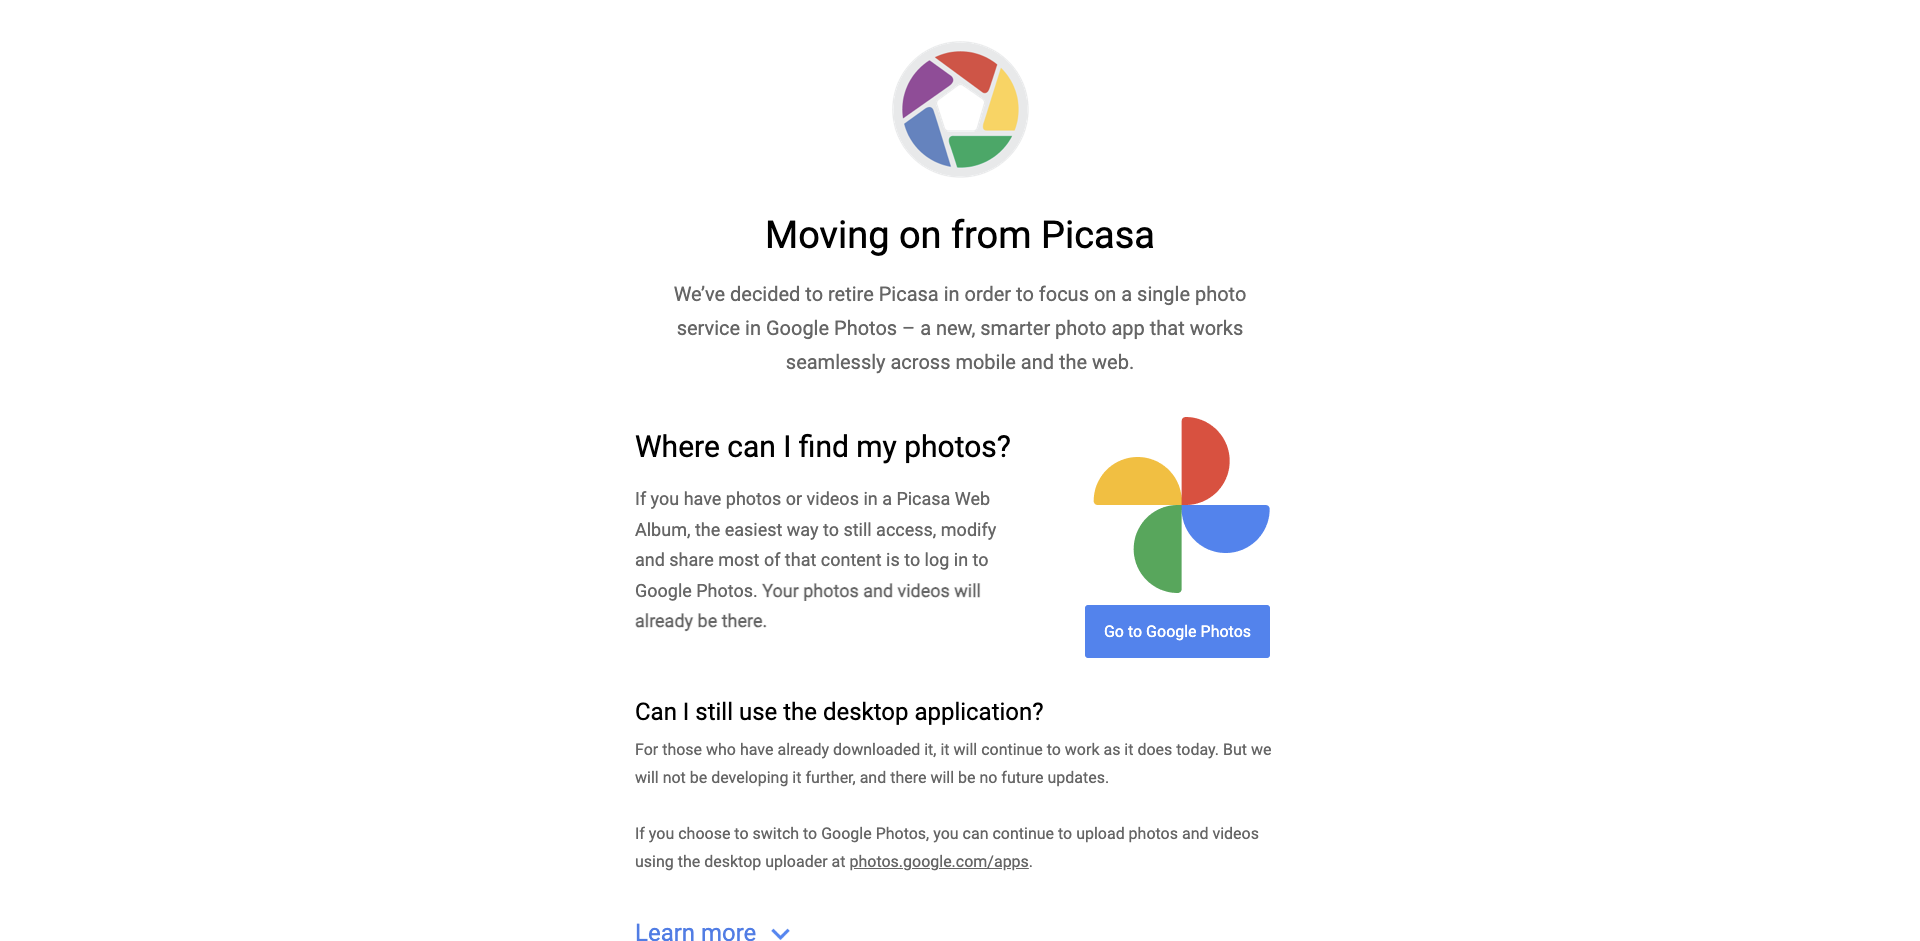button: (1085, 605, 1270, 658)
link: (636, 916, 1284, 941), (850, 852, 1029, 871)
